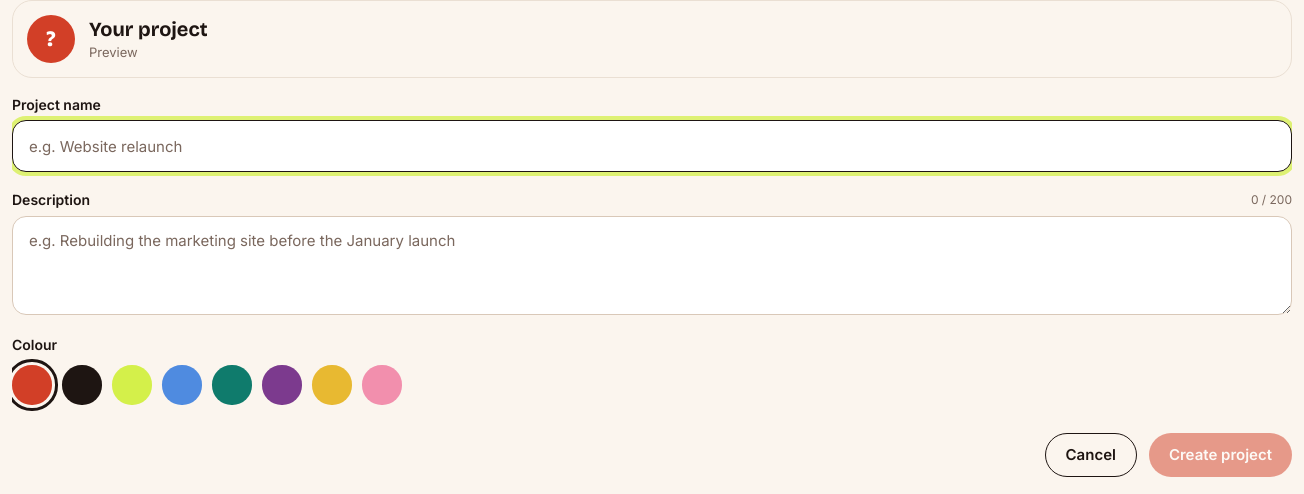
NewProjectForm › previews the description under the name as it is typed, with a counter
expect the text "Preview" is shown: met, box [89,44,138,60]
Type "For the launch" into the text box labelled "Description".
click(652, 266); type("For the launch")  # box [12,216,1292,315]
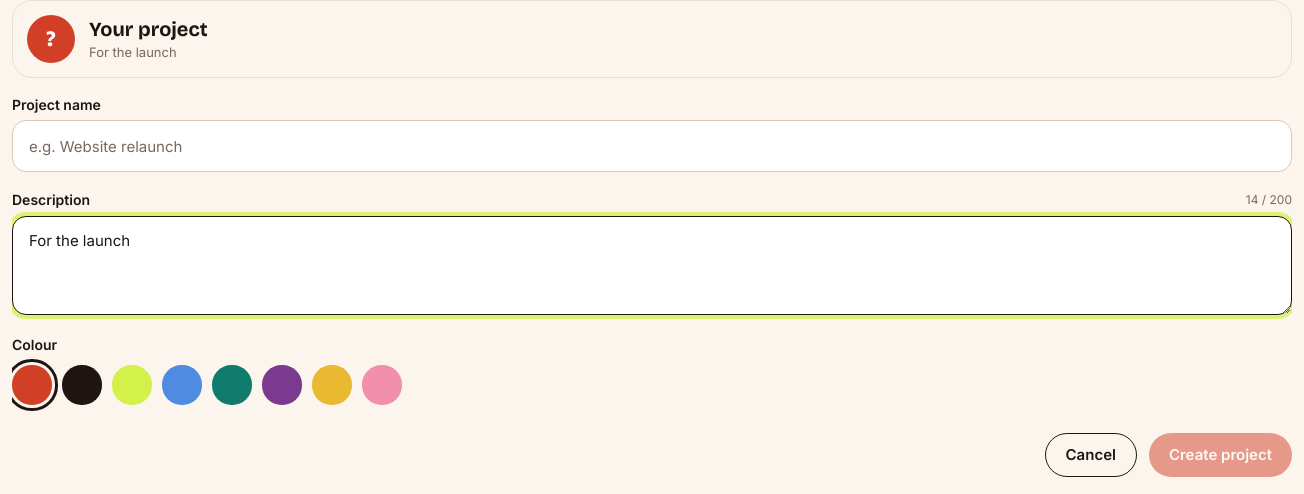
expect the text "For the launch" is shown: met, box [89,44,177,60]
expect the text "Preview" is gone: met
expect the text "14 / 200" is shown: met, box [1246,192,1292,208]
